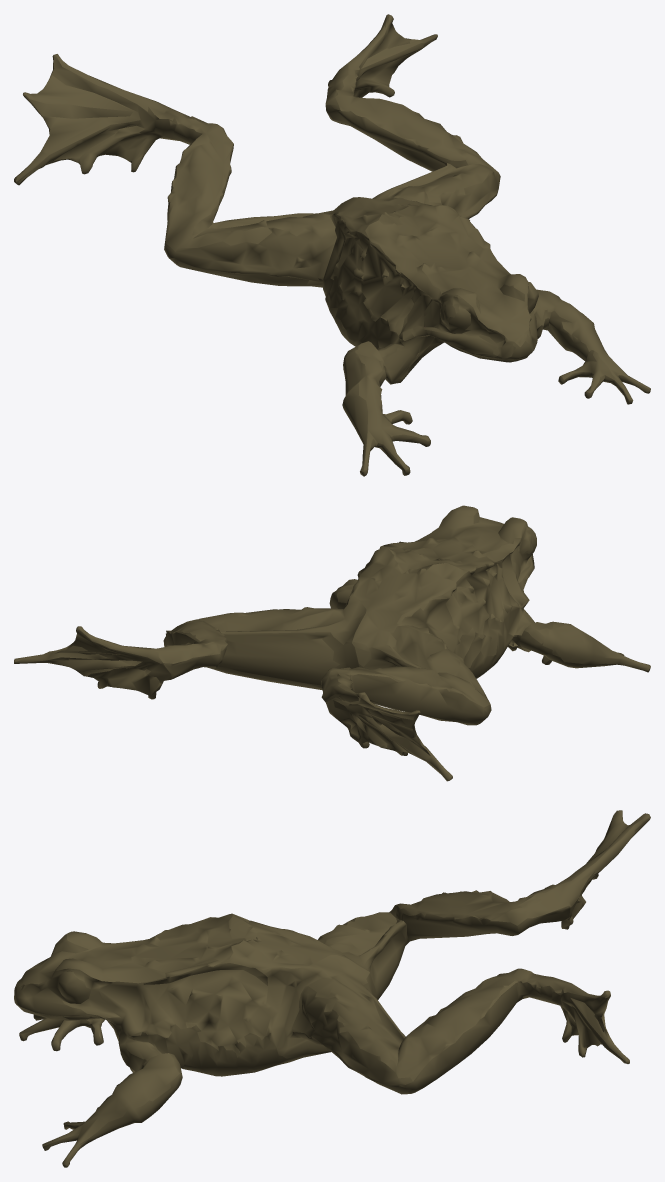
Rendered from commonfrog.swim.lo.glb.
3 views of the same model, one above another, from view 1: azimuth 30°, elevation 25°; view 2: azimuth 150°, elevation 25°; view 3: azimuth 270°, elevation 25° (orthographic). The views are drawn at different scales.
Parts seen in each view (by area): view 1: commonfrog.swim; view 2: commonfrog.swim; view 3: commonfrog.swim.
Part boxes in pixels (left/top/right/bottom): commonfrog.swim: left=14, top=14, right=650, bottom=476; commonfrog.swim: left=14, top=505, right=650, bottom=781; commonfrog.swim: left=14, top=810, right=650, bottom=1167.
Bounding box in the file's own units: 0.1001 × 0.0445 × 0.1246.
